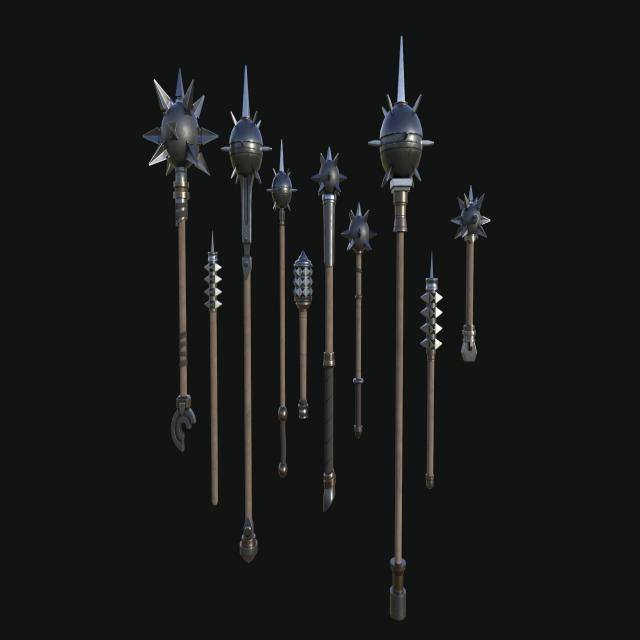mace: (371, 35, 434, 623), (142, 60, 219, 453), (226, 68, 273, 563), (314, 146, 346, 508), (268, 138, 299, 477), (345, 203, 376, 440), (455, 185, 491, 364), (419, 250, 445, 489), (204, 232, 225, 509), (294, 250, 315, 419)
